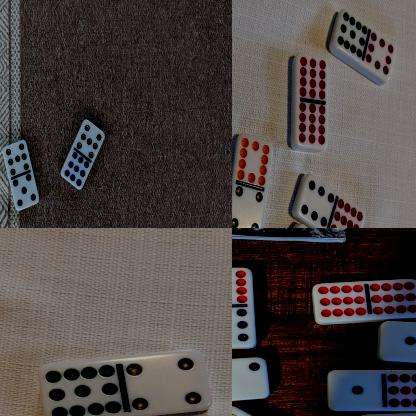pip-1: (327, 368, 386, 411), (379, 320, 416, 362)
pip-10: (237, 132, 274, 184)
pip-11: (43, 359, 123, 416), (338, 6, 368, 58)
pip-12: (313, 281, 370, 321), (369, 277, 416, 319), (295, 101, 328, 147), (297, 54, 328, 99), (386, 368, 416, 411), (331, 197, 366, 228), (232, 266, 255, 306)
pip-2: (232, 357, 269, 401)
pip-4: (124, 350, 212, 415), (232, 184, 266, 228)
pip-5: (12, 172, 40, 209)
pip-6: (300, 174, 334, 228), (232, 304, 257, 349)
pip-7: (77, 118, 106, 159), (3, 138, 30, 176)
pip-8: (366, 30, 397, 80)
pip-9: (61, 151, 90, 188)
